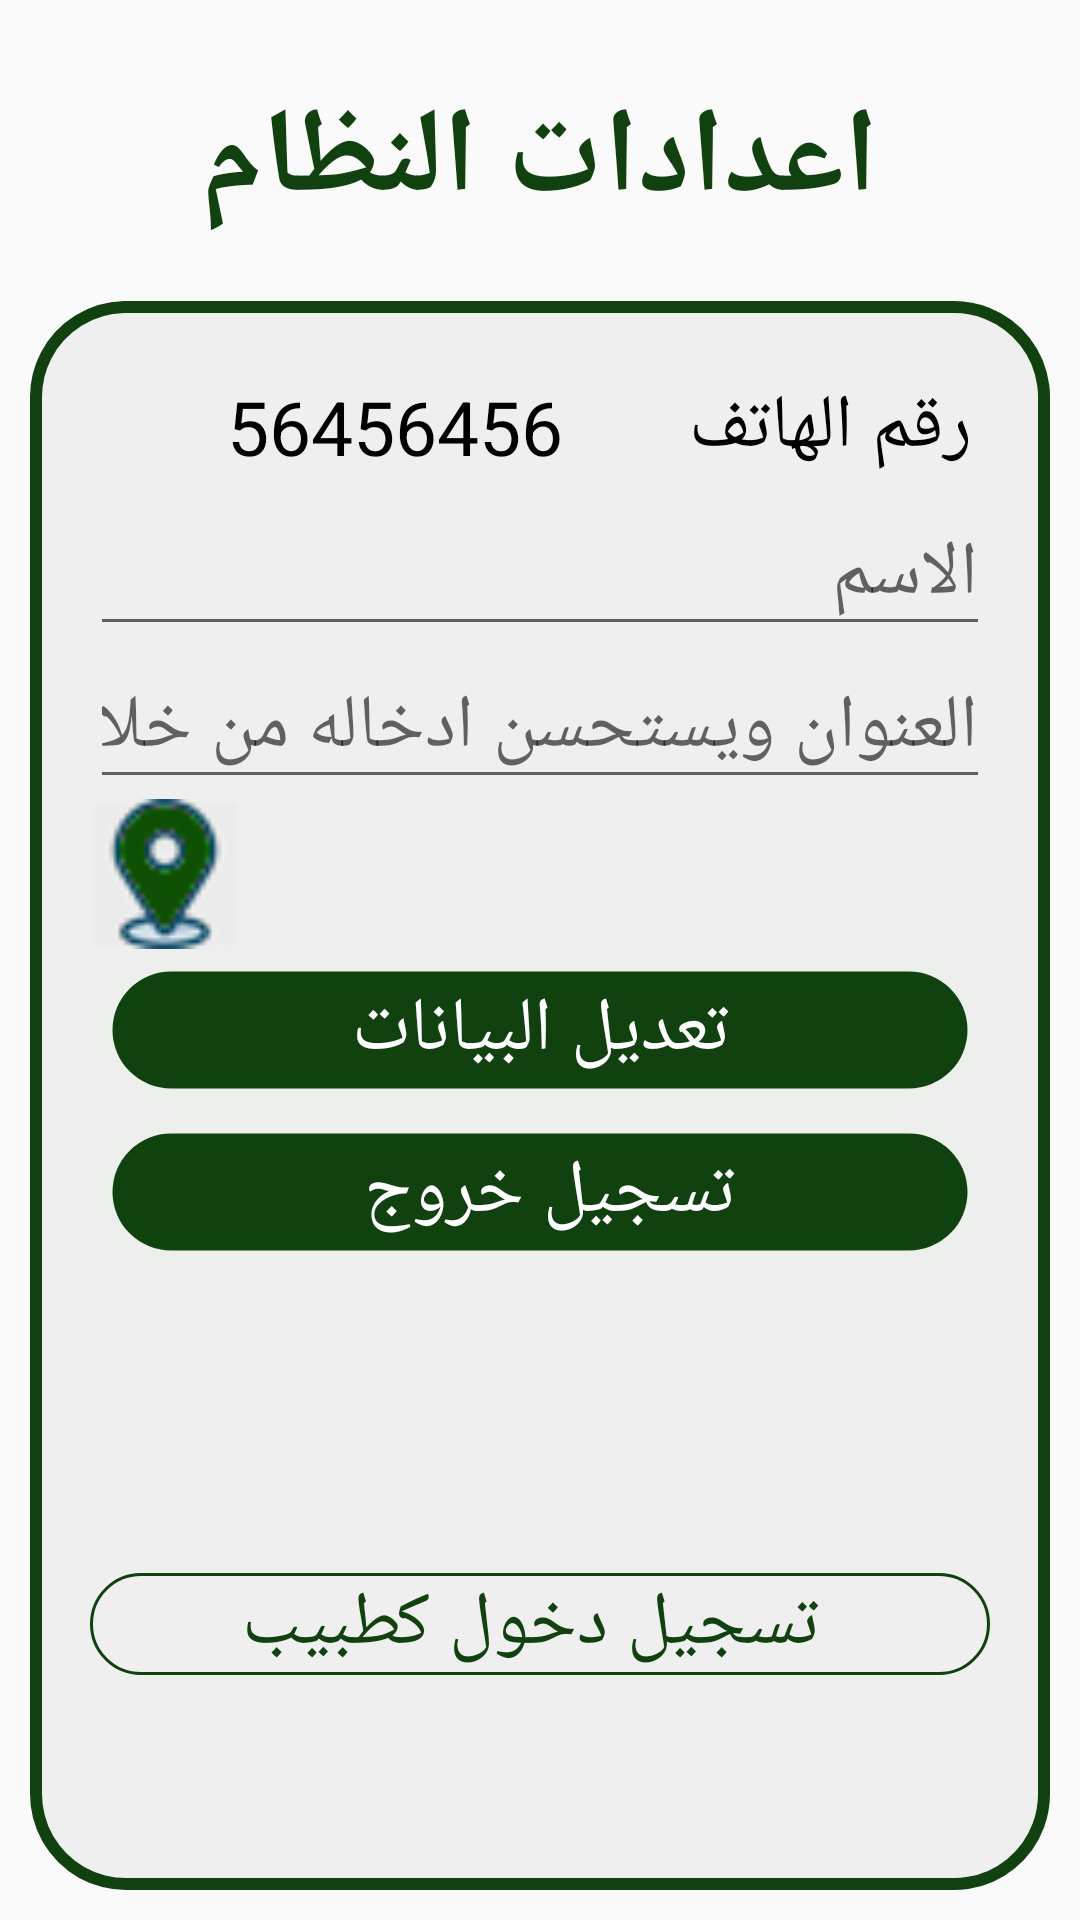

Icon click points for this 1080×1920 phone screenshot, format (x,y):
loc: (165,874)
